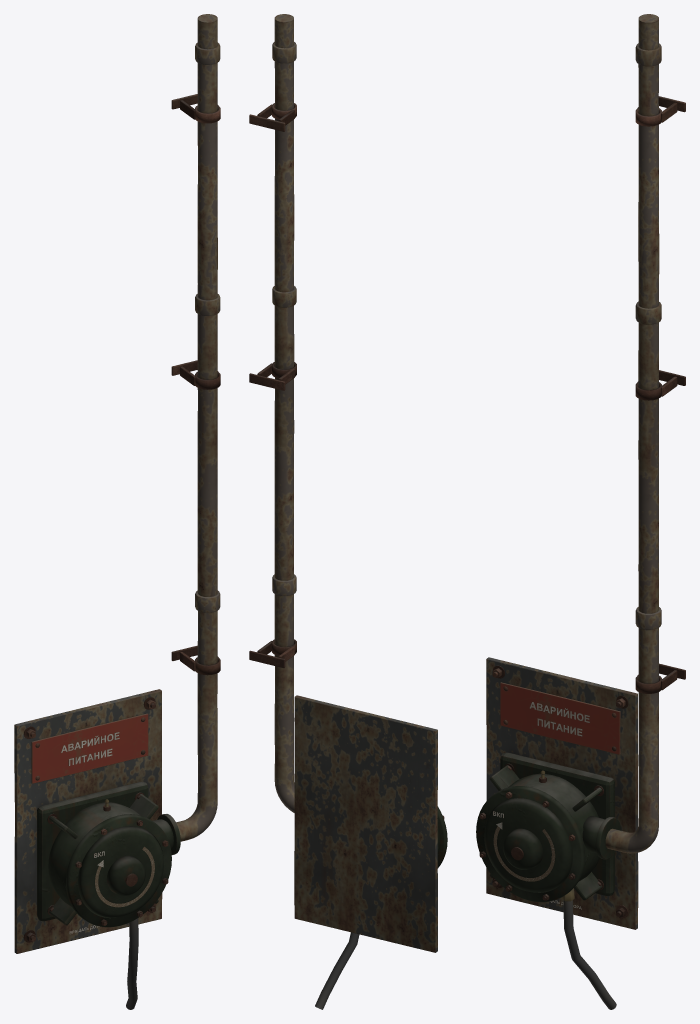
Rendered from EmergencyCrank.fbx.
The picture shows the model from 3 angles, left to right: view 1: azimuth 30°, elevation 25°; view 2: azimuth 150°, elevation 25°; view 3: azimuth 330°, elevation 25°; orthographic projection. The views are drawn at different scales.
Parts seen in each view (by area): view 1: EmergencyCrank_Mesh; view 2: EmergencyCrank_Mesh; view 3: EmergencyCrank_Mesh.
Boxes of the visible parts, bbox=[...] form: EmergencyCrank_Mesh: bbox=[14, 14, 220, 1009]; EmergencyCrank_Mesh: bbox=[249, 14, 447, 1009]; EmergencyCrank_Mesh: bbox=[476, 14, 685, 1009].
Bounding box in the file's own units: 0.5303 × 2.61 × 0.2339.
